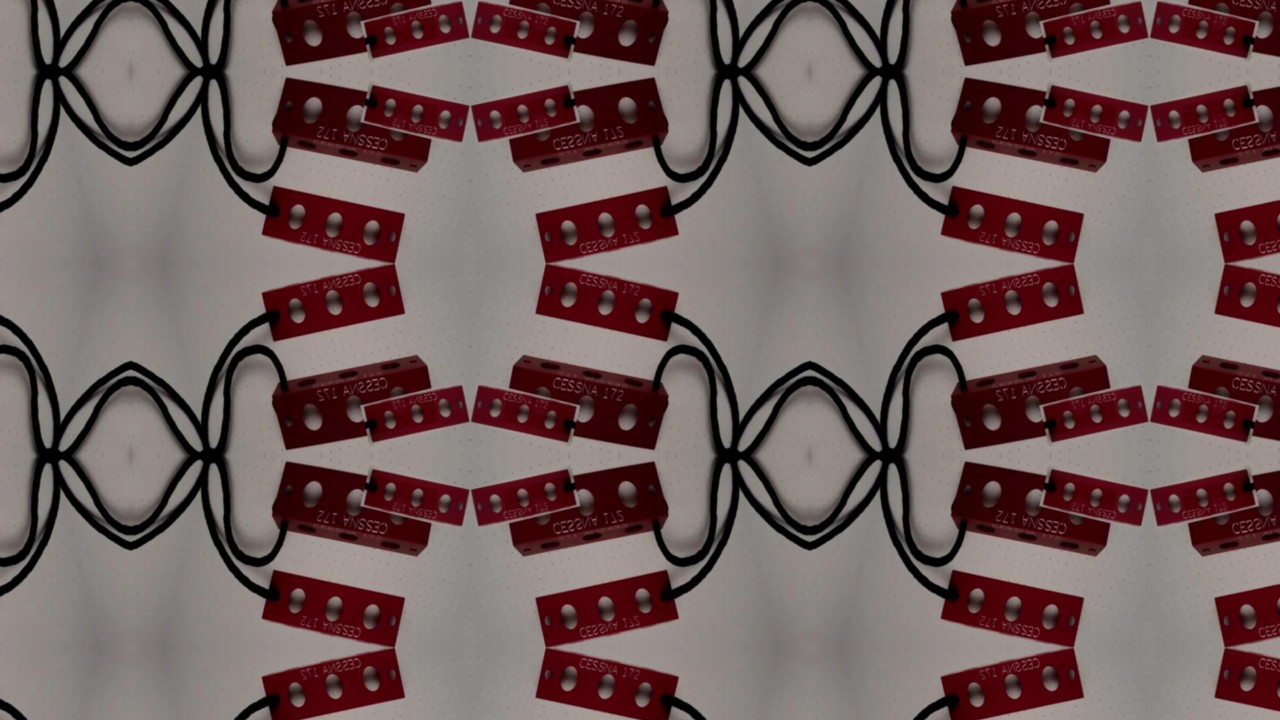chock: (265, 71, 442, 181), (498, 71, 675, 181), (945, 71, 1122, 181), (265, 346, 442, 456), (498, 346, 675, 456), (945, 346, 1122, 456), (265, 456, 442, 566), (498, 456, 675, 566), (945, 456, 1122, 566), (256, 179, 409, 264), (531, 179, 684, 264), (936, 179, 1089, 264), (256, 564, 409, 649), (531, 564, 684, 649), (936, 564, 1089, 649), (256, 264, 409, 348), (531, 264, 684, 348), (936, 264, 1089, 348), (265, 0, 442, 71), (498, 0, 675, 71), (945, 0, 1122, 71), (1178, 71, 1280, 181), (1178, 346, 1280, 456), (1178, 456, 1280, 566), (256, 648, 409, 720), (531, 648, 684, 720), (936, 648, 1089, 720), (360, 80, 470, 146), (470, 80, 580, 146), (1040, 80, 1150, 146), (1150, 80, 1260, 146), (360, 381, 470, 447), (470, 381, 580, 447), (1040, 381, 1150, 447), (1150, 381, 1260, 447), (360, 465, 470, 531), (470, 465, 580, 531), (1040, 465, 1150, 531), (1150, 465, 1260, 531), (1178, 0, 1280, 71), (360, 0, 470, 62), (470, 0, 580, 62), (1040, 0, 1150, 62), (1150, 0, 1260, 62), (1211, 179, 1280, 264), (1211, 564, 1280, 649), (1211, 264, 1280, 348), (1211, 648, 1280, 720)
